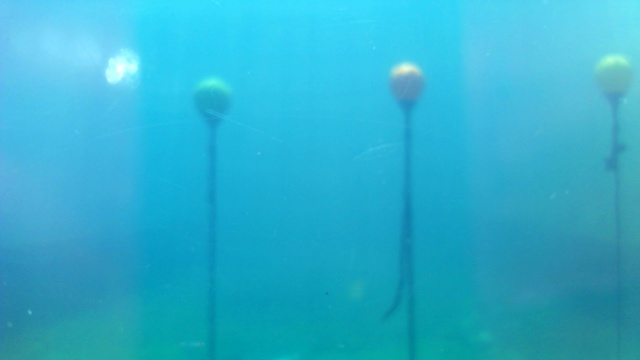buoy_green: (192, 78, 232, 126)
buoy_red: (389, 63, 424, 106)
